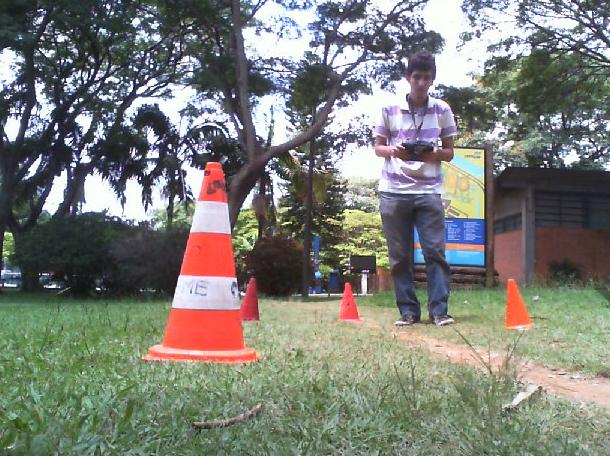0 cone: (141, 162, 255, 363), (502, 278, 531, 329), (336, 283, 362, 321), (241, 277, 260, 321)
